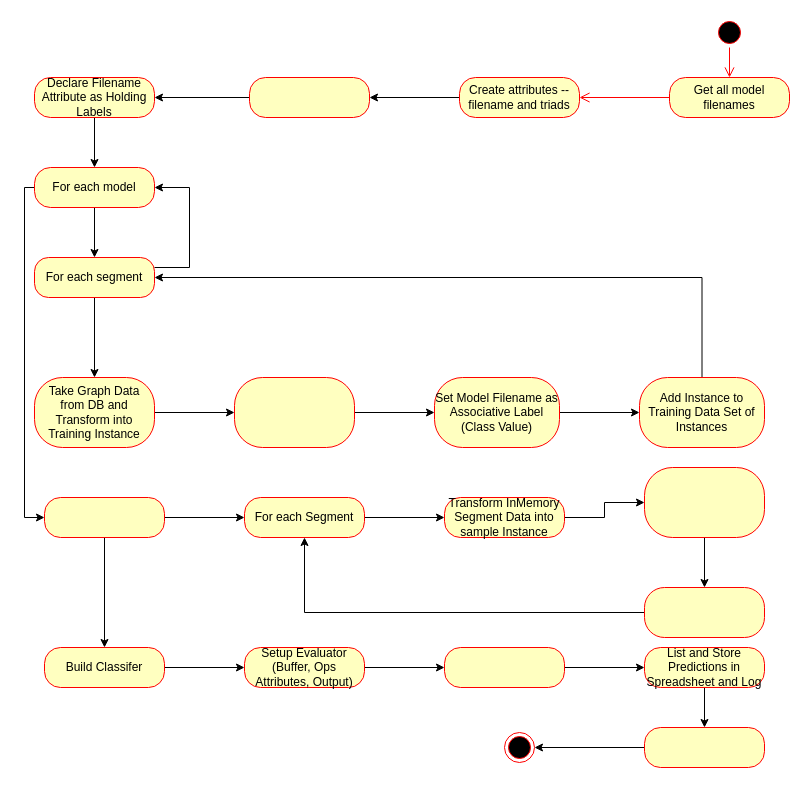
The diagram is 807 pixels wide and 785 high, and some of its shapes have lost their labels. Here are the shapes that lost their labels. From the top down, the centre of each, then its label:
At point 309,97: "Create Instances Object".
At point 294,412: "Declare that Instance object Belong to Training Instances Set".
At point 104,517: "Repeat with Sample Image".
At point 704,502: "Declare that Instance Object Belongs to Sample Instances Set".
At point 704,612: "Add Instance to SampleData Set of Instances".
At point 504,667: "Evalute Model Against Sample and Get Predictions".
At point 704,747: "Note the best result in the Spreadsheet".
